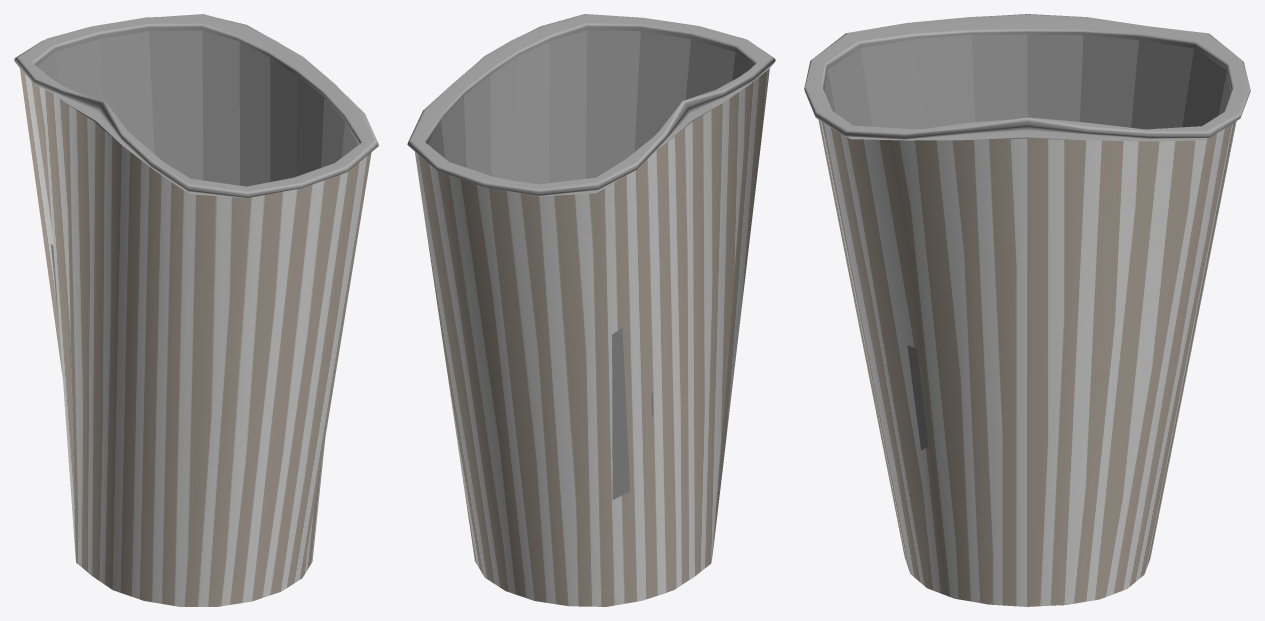
File: Cup_Squashed_1.fbx
3 views of the same model, side by side, from view 1: azimuth 30°, elevation 25°; view 2: azimuth 150°, elevation 25°; view 3: azimuth 270°, elevation 25° (orthographic). The views are drawn at different scales.
Visible parts, largest first — view 1: polySurface18; view 2: polySurface18; view 3: polySurface18.
Boxes of the visible parts, x1,y1,x2,y2 form: polySurface18: (14,14,378,606); polySurface18: (407,14,775,606); polySurface18: (804,14,1250,606).
Bounding box in the file's own units: 4.97 × 10.64 × 8.63.
Materials: 2 (1 with a texture image).
